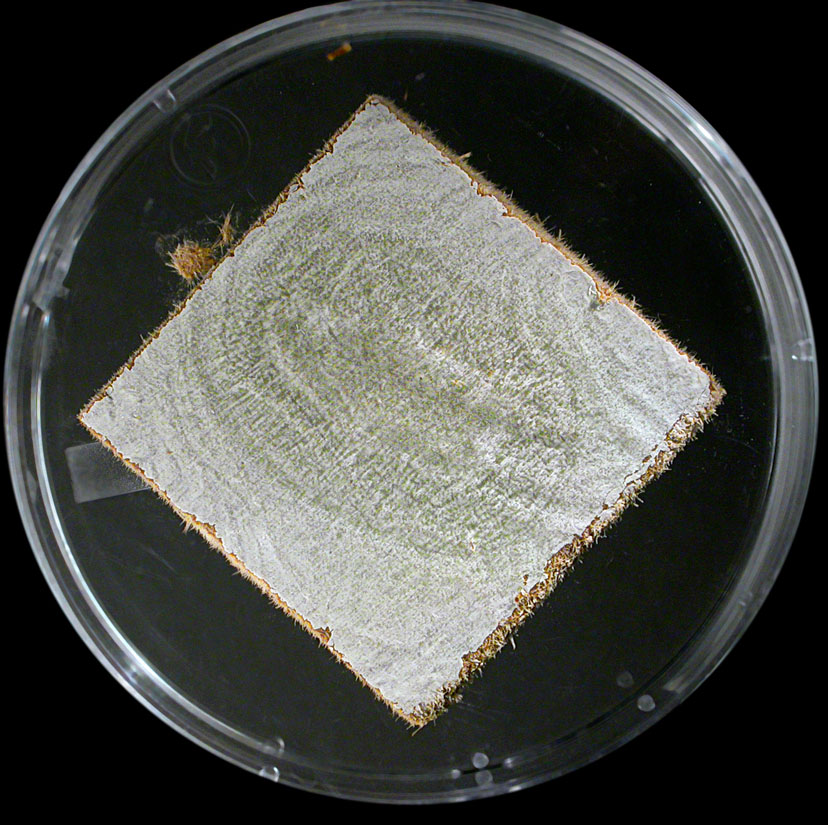Penicillium: (210, 256, 566, 510)
